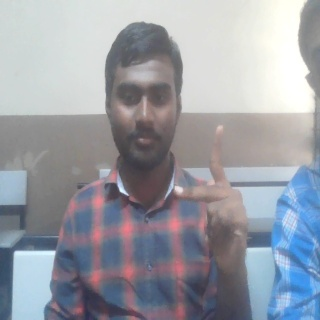Face: (103, 21, 184, 171)
Okay: (172, 123, 250, 279)
